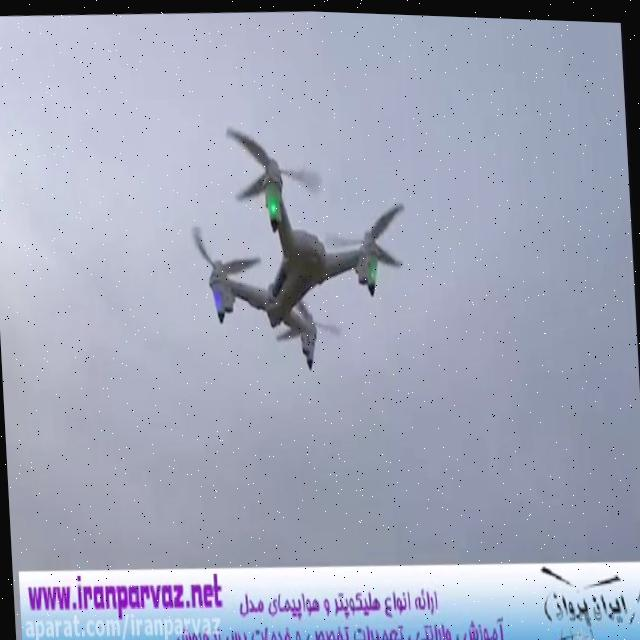drone: (180, 99, 420, 380)
